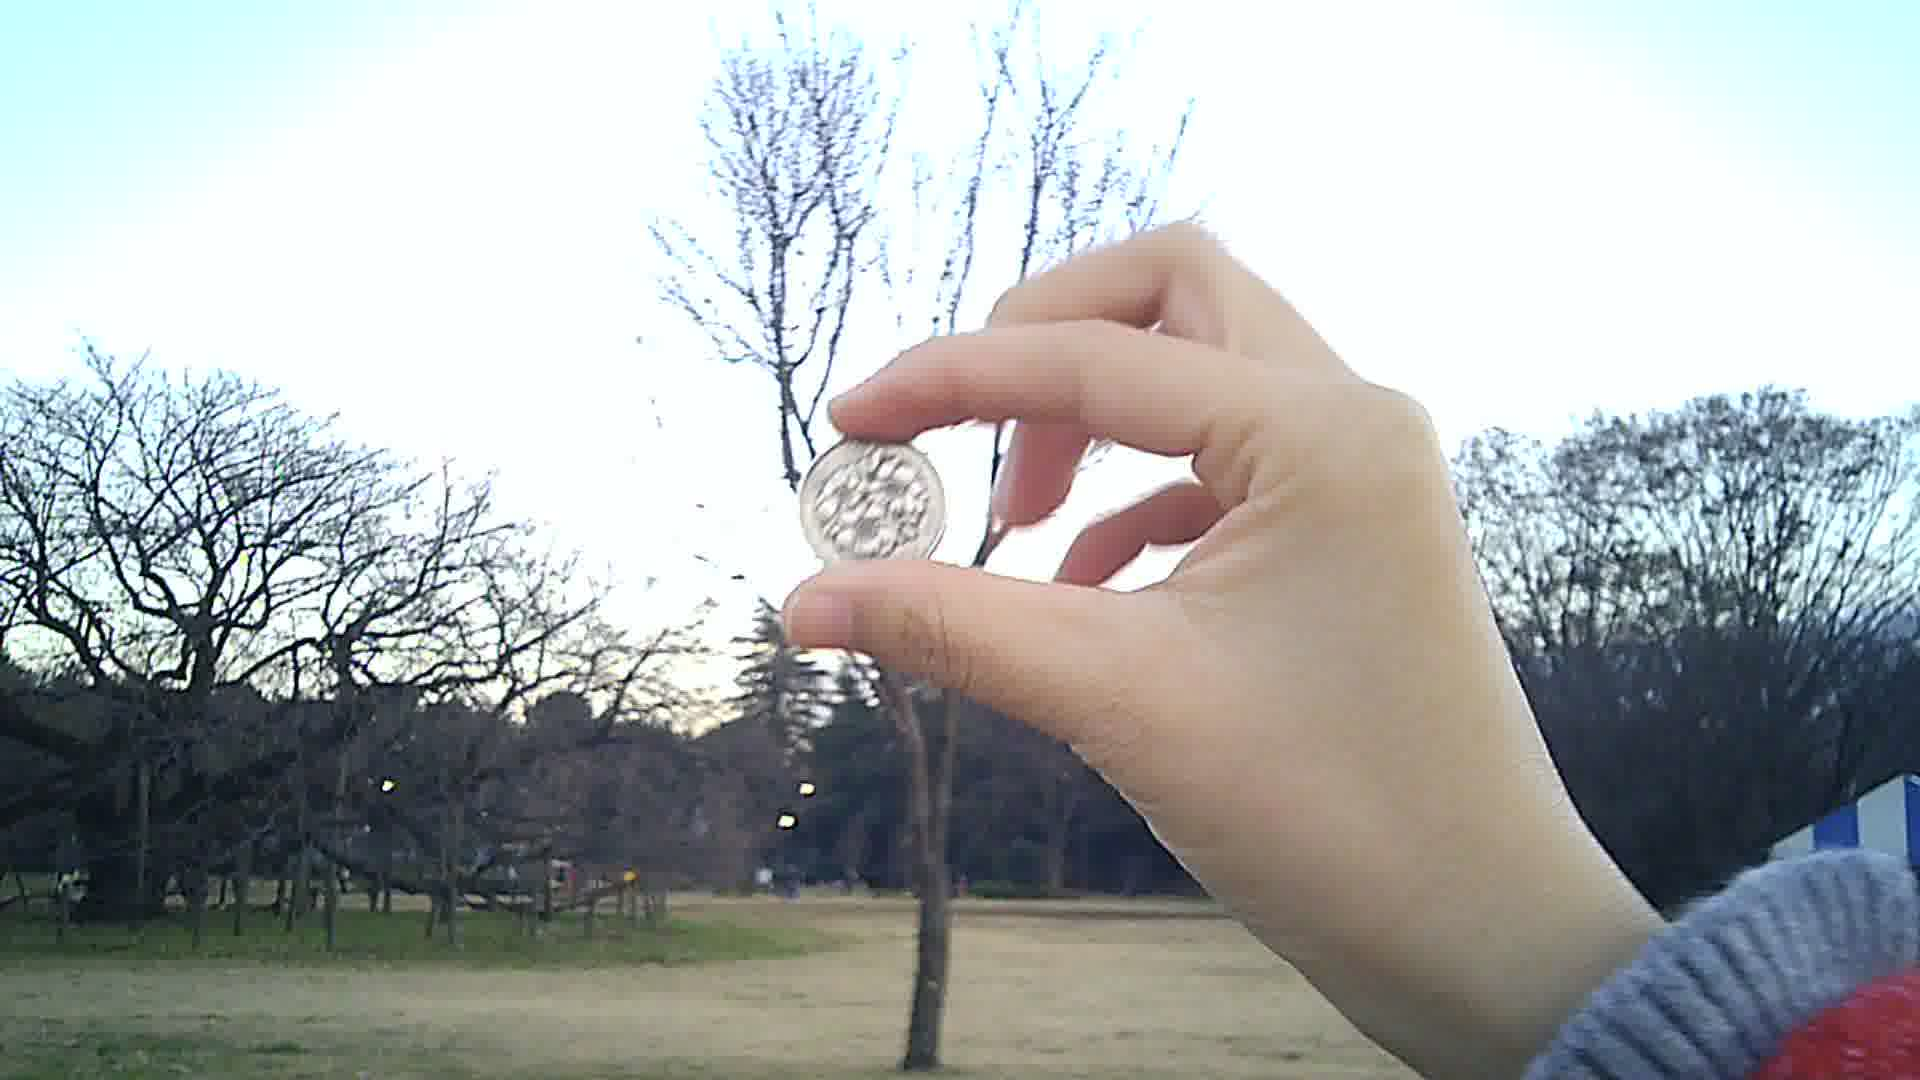100 Yen: (796, 429, 949, 575)
